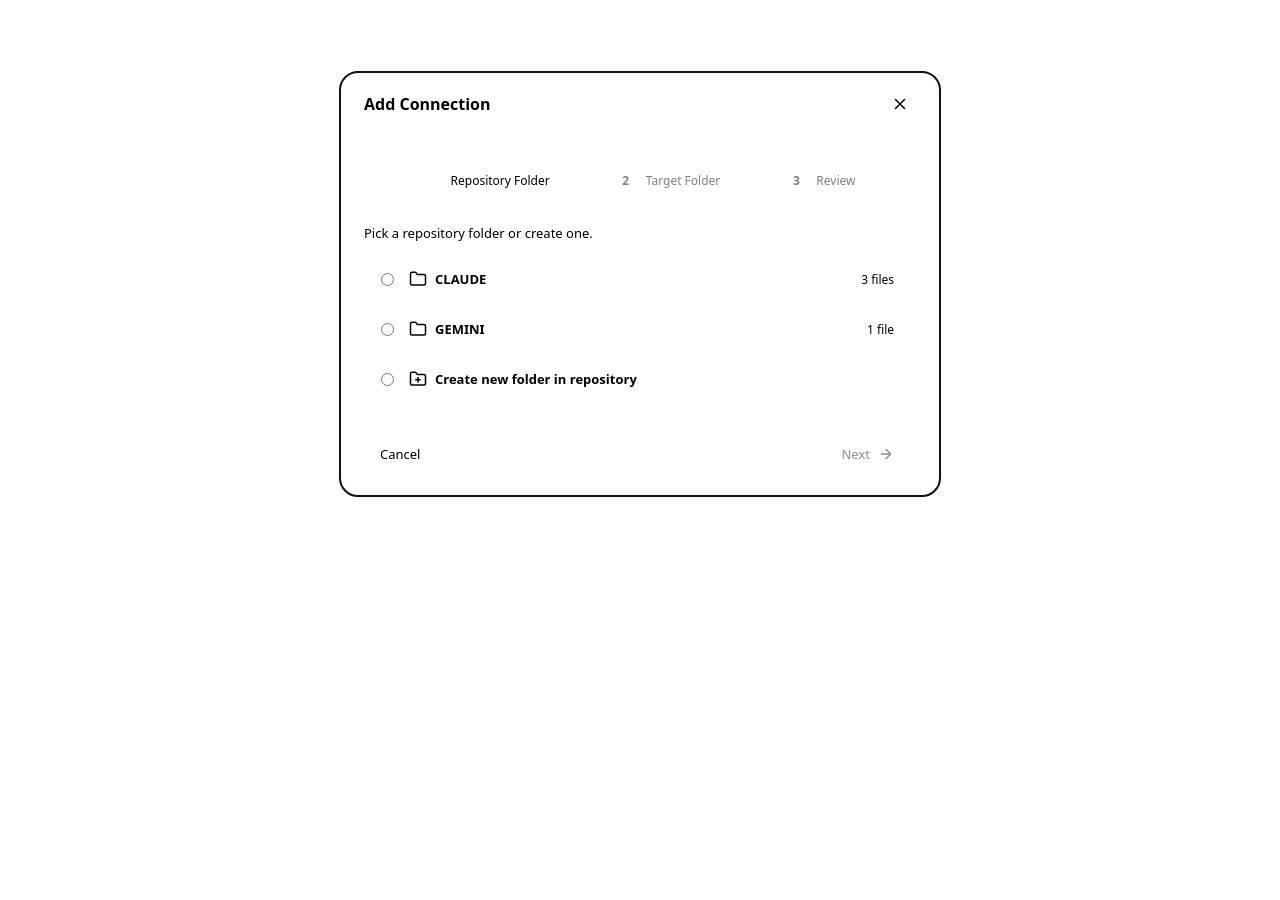
Test: ConnectionWizardModal.svelte › validates new folder names correctly
Click the radio button labelled "Create new folder in repository": click(388, 380) x1=381 y1=373 x2=394 y2=386
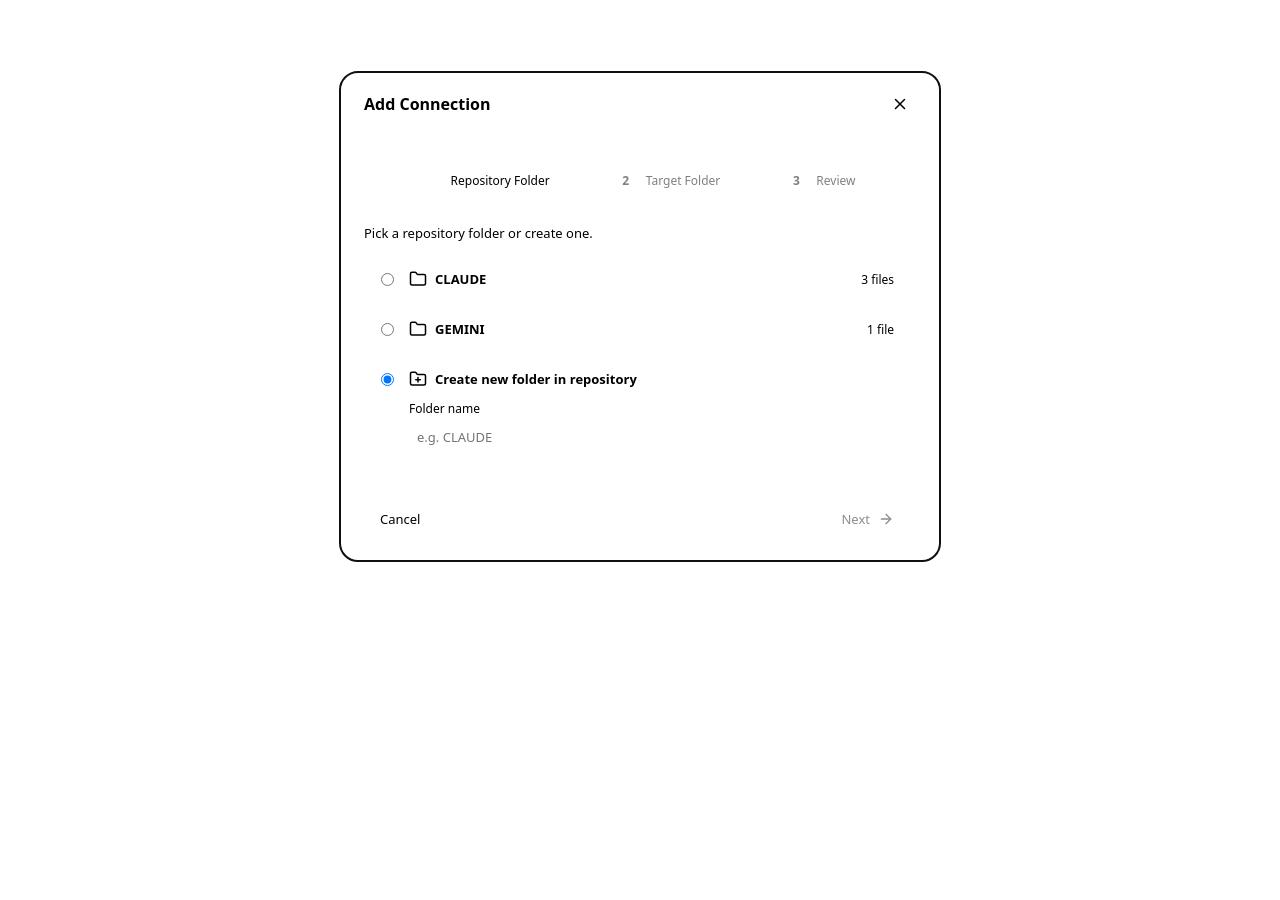
Now the field with placeholder "e.g. CLAUDE" is shown
# Test invalid characters: "invalid*name"
In the field with placeholder "e.g. CLAUDE": (652, 437) x1=409 y1=421 x2=894 y2=453, type "invalid*name"
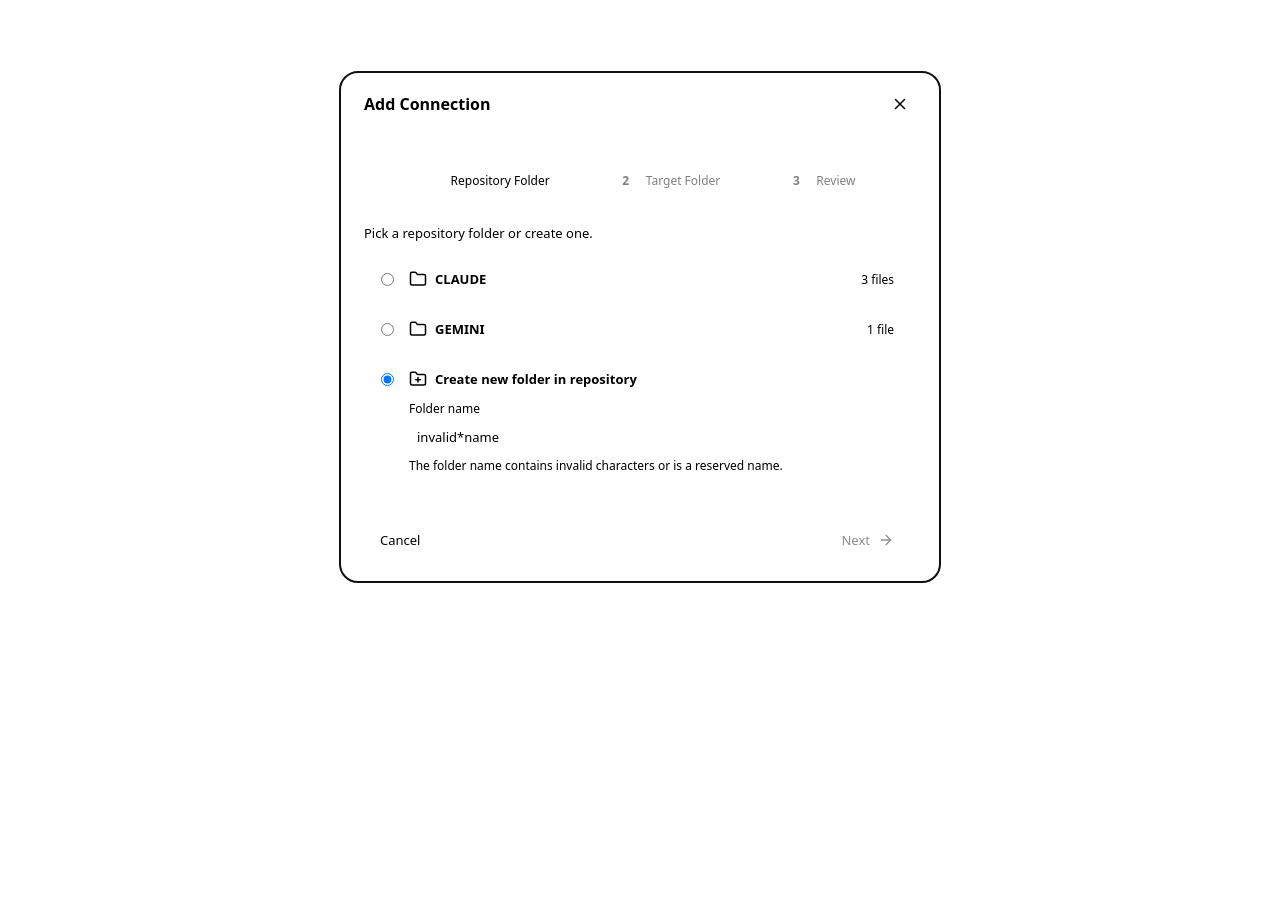
Now the text "The folder name contains invalid characters or is a reserved name." is shown, box x1=409 y1=457 x2=783 y2=474
# Test reserved name: "CON"
Replace the text in the field with placeholder "e.g. CLAUDE" with "CON": (652, 437) x1=409 y1=421 x2=894 y2=453
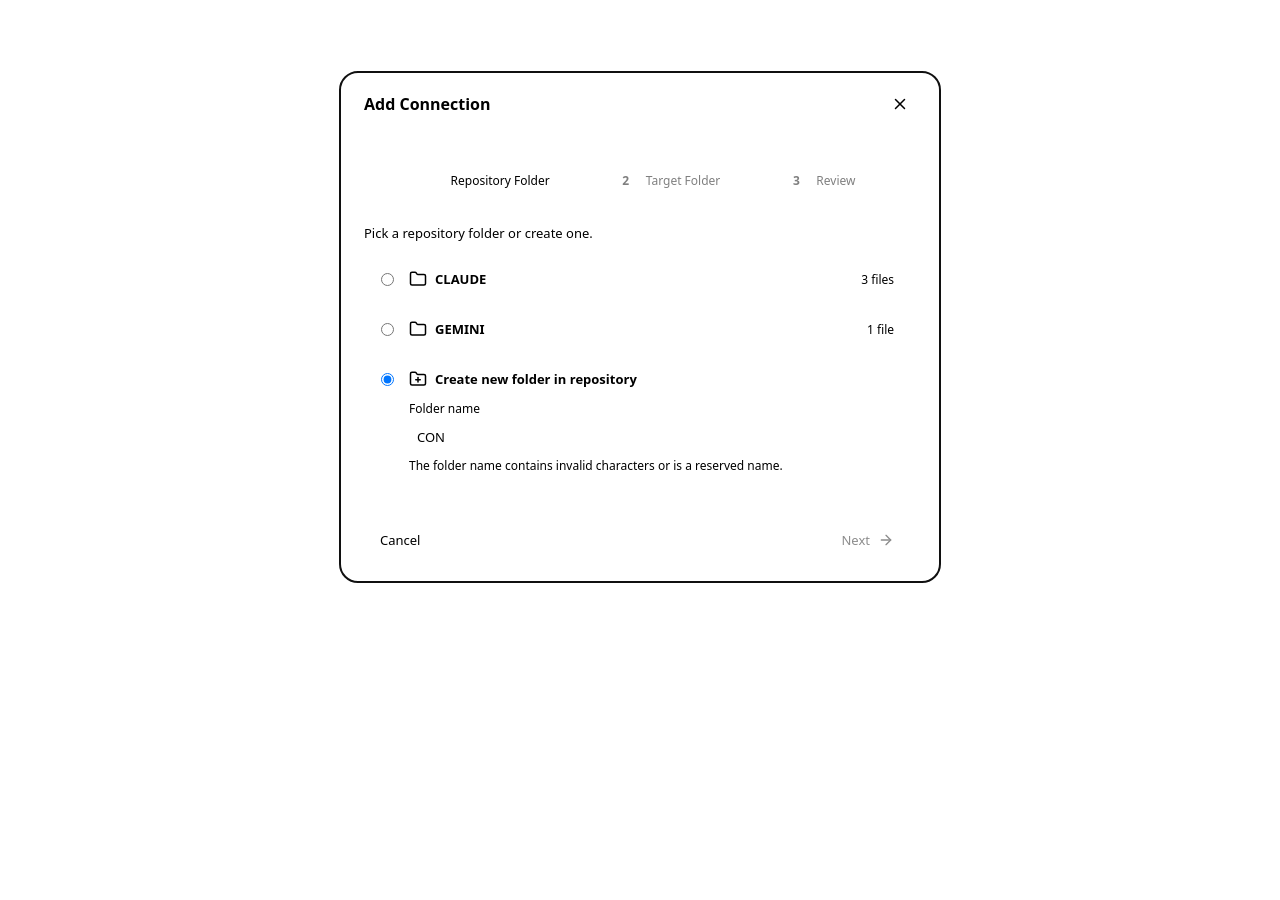
Now the text "The folder name contains invalid characters or is a reserved name." is shown, box x1=409 y1=457 x2=783 y2=474
# Test already exists: "CLAUDE"
Replace the text in the field with placeholder "e.g. CLAUDE" with "CLAUDE": (652, 437) x1=409 y1=421 x2=894 y2=453
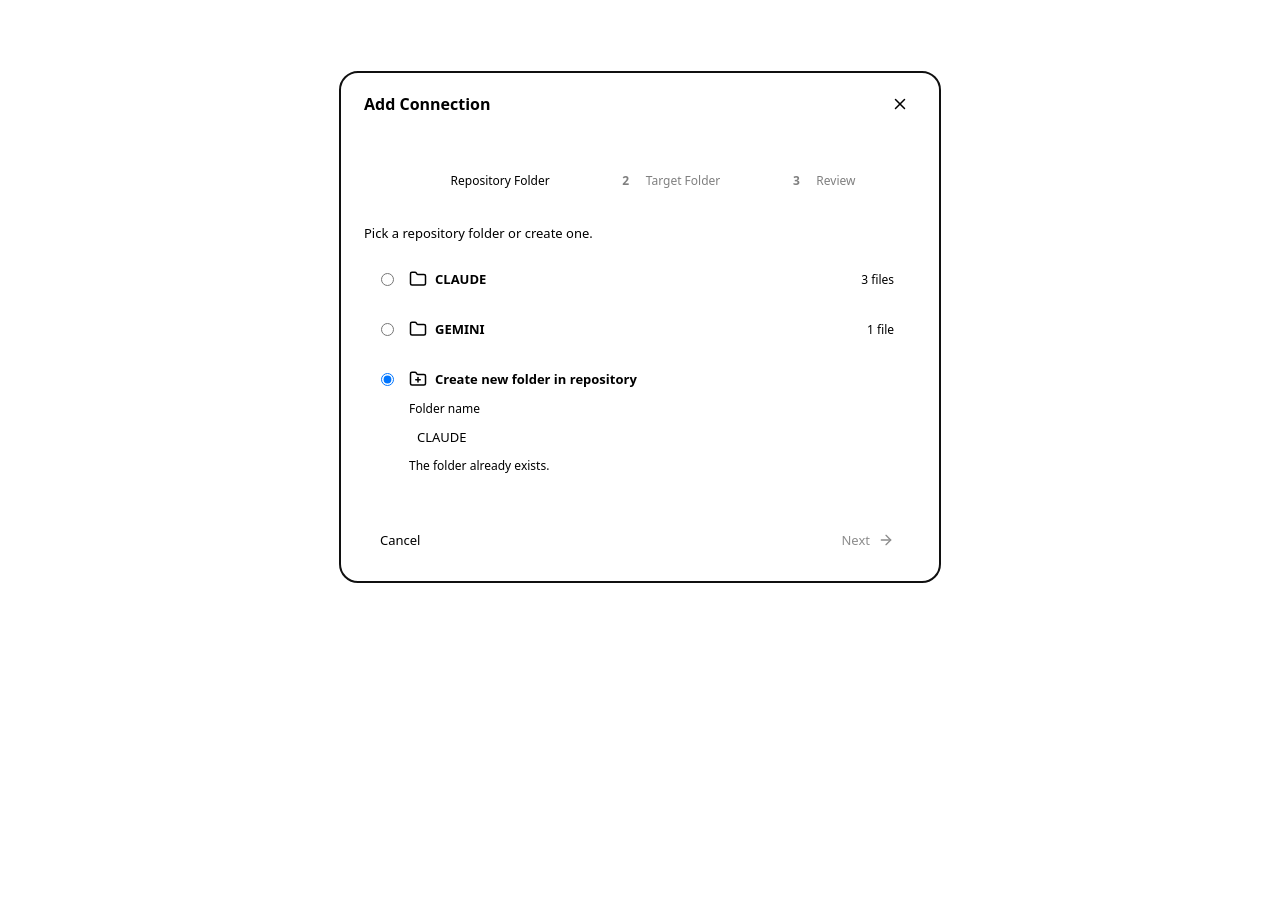
Now the text "The folder already exists." is shown, box x1=409 y1=457 x2=549 y2=474
# Test valid name: "NEW_AGENT"
Replace the text in the field with placeholder "e.g. CLAUDE" with "NEW_AGENT": (652, 437) x1=409 y1=421 x2=894 y2=453
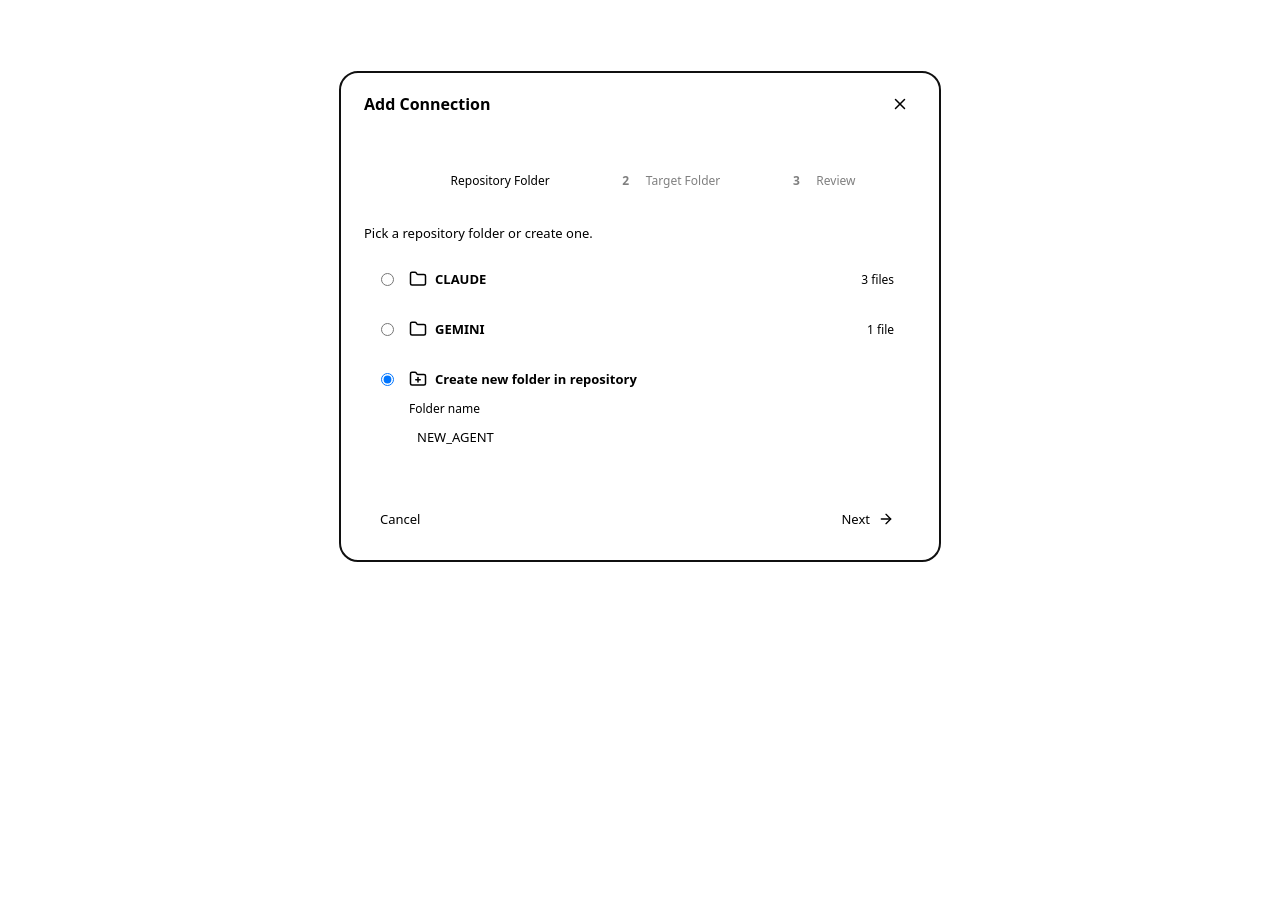
Now the button "Next" is enabled, box x1=826 y1=501 x2=910 y2=537
